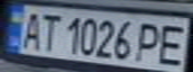0: (78, 15, 100, 56)
1: (60, 13, 81, 55)
2: (97, 16, 118, 60)
6: (112, 17, 139, 62)
A: (15, 9, 45, 51)
E: (151, 20, 193, 66)
P: (133, 19, 166, 64)
T: (36, 10, 60, 52)
